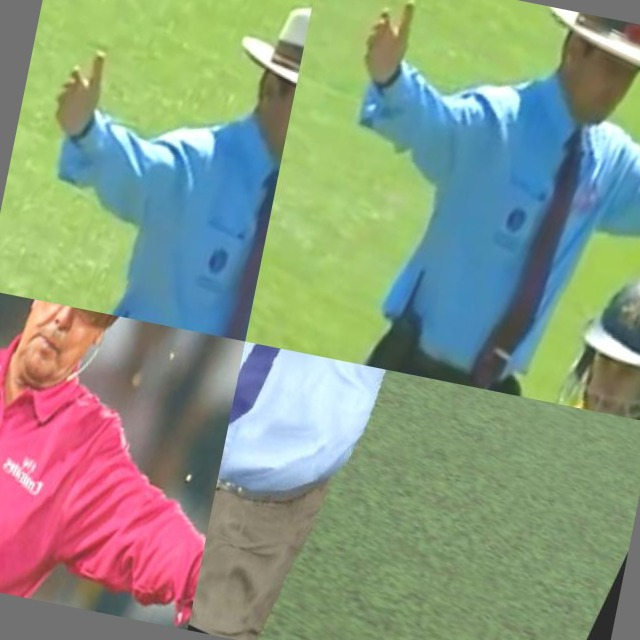No_Ball: (188, 342, 640, 640), (0, 290, 245, 630)
Wide: (245, 0, 640, 423), (0, 0, 321, 342)
